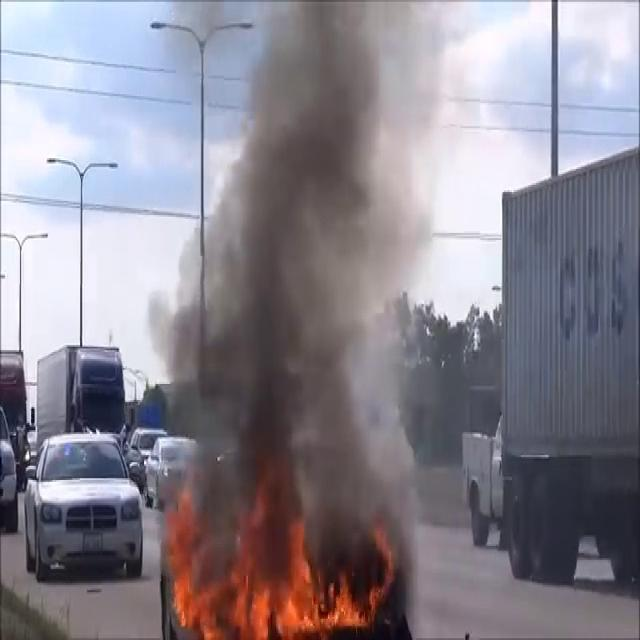Fire: (166, 519, 381, 640)
Smoke: (158, 0, 438, 558)
